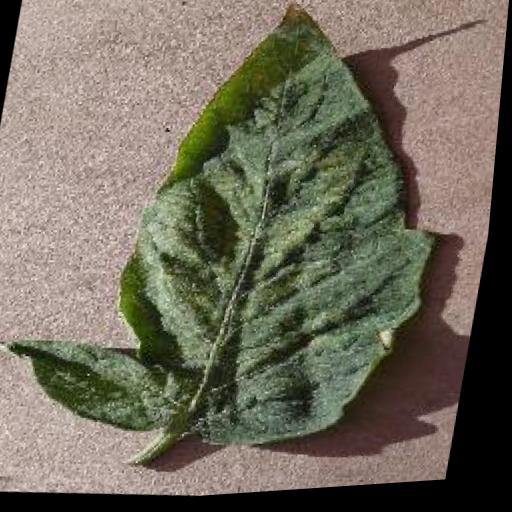Spider Mites: (0, 0, 475, 476)
